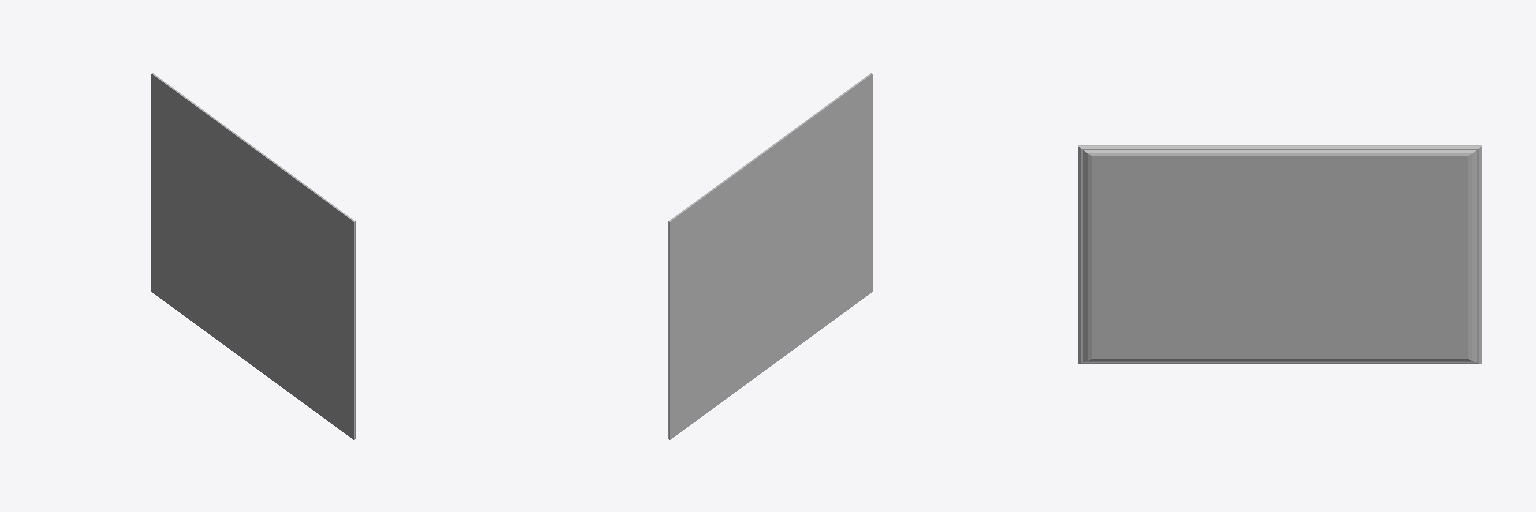
File: basic_wall.obj
3 renders of one model, left to right at view 1: azimuth 30°, elevation 25°; view 2: azimuth 150°, elevation 25°; view 3: azimuth 270°, elevation 25°, orthographic.
Visible parts, largest first — view 1: pCube1; view 2: pCube1; view 3: pCube1.
Boxes of the visible parts, box(x1,y1,x2,y2) form: pCube1: box(151, 73, 355, 439); pCube1: box(668, 73, 872, 439); pCube1: box(1078, 145, 1481, 363).
Bounding box in the file's own units: 1.11 × 34.39 × 57.79.